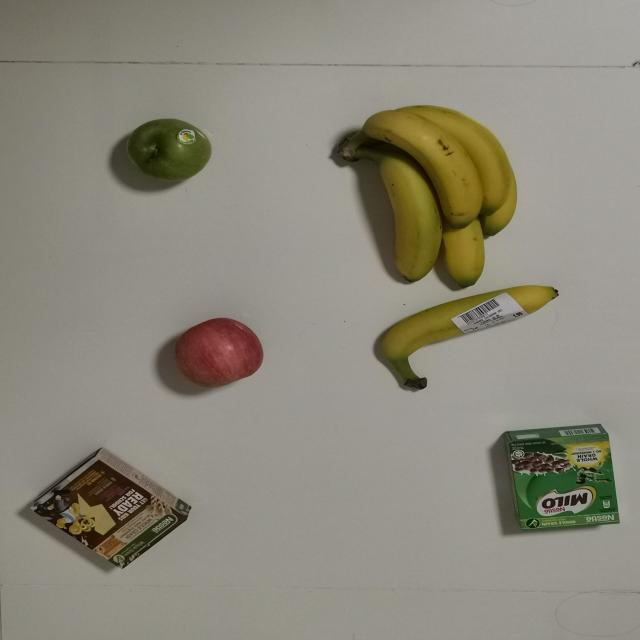Apple: (168, 317, 269, 391), (120, 112, 221, 186)
Banana: (320, 107, 536, 286), (368, 277, 564, 397)
Cerealbox: (14, 447, 202, 579), (503, 423, 619, 539)
